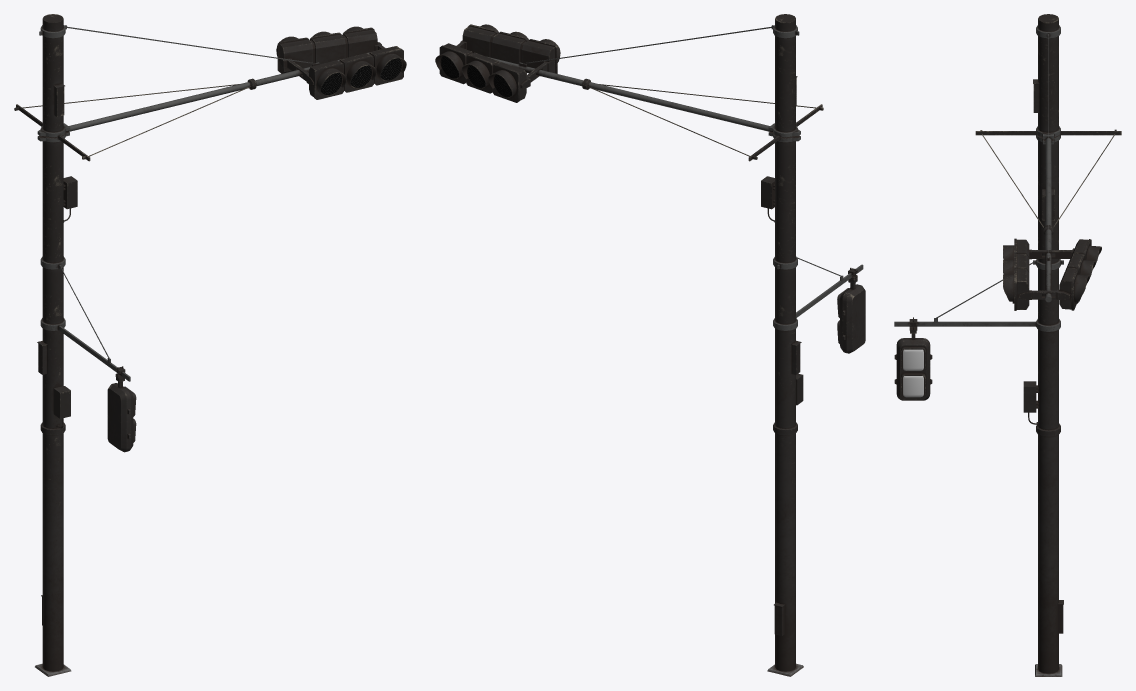
The model's file is jctTrafficLightA.fbx.
3 views of the same model, side by side, from view 1: azimuth 30°, elevation 25°; view 2: azimuth 150°, elevation 25°; view 3: azimuth 270°, elevation 25° (orthographic).
Parts seen in each view (by area): view 1: jctTrafficLightA; view 2: jctTrafficLightA; view 3: jctTrafficLightA.
Part boxes in pixels (<box>): jctTrafficLightA: <box>14,14,406,676</box>; jctTrafficLightA: <box>435,14,865,676</box>; jctTrafficLightA: <box>894,14,1121,676</box>.
Size of the model in its own units: 428 by 752 by 237.
